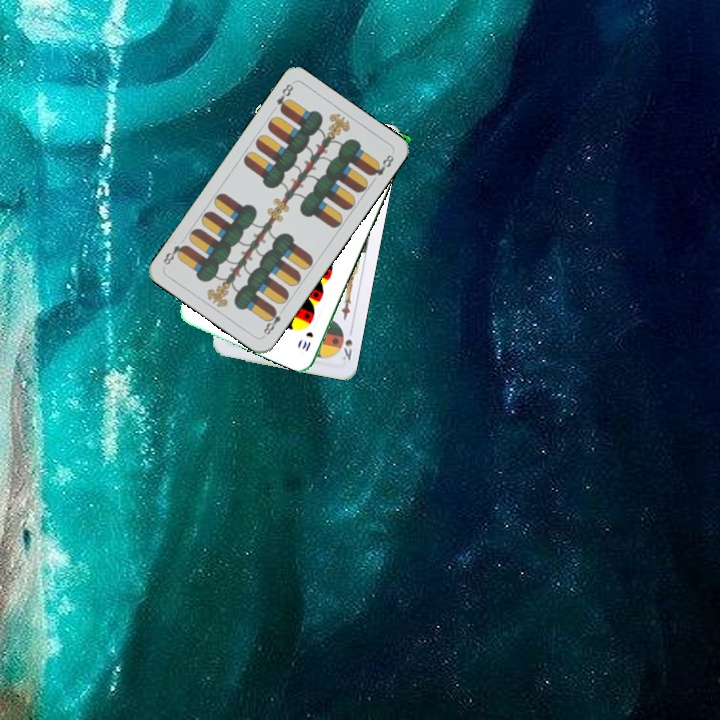E8: (259, 304, 287, 339), (272, 79, 296, 115)
S10: (298, 327, 316, 354)
SK: (335, 327, 355, 363)
